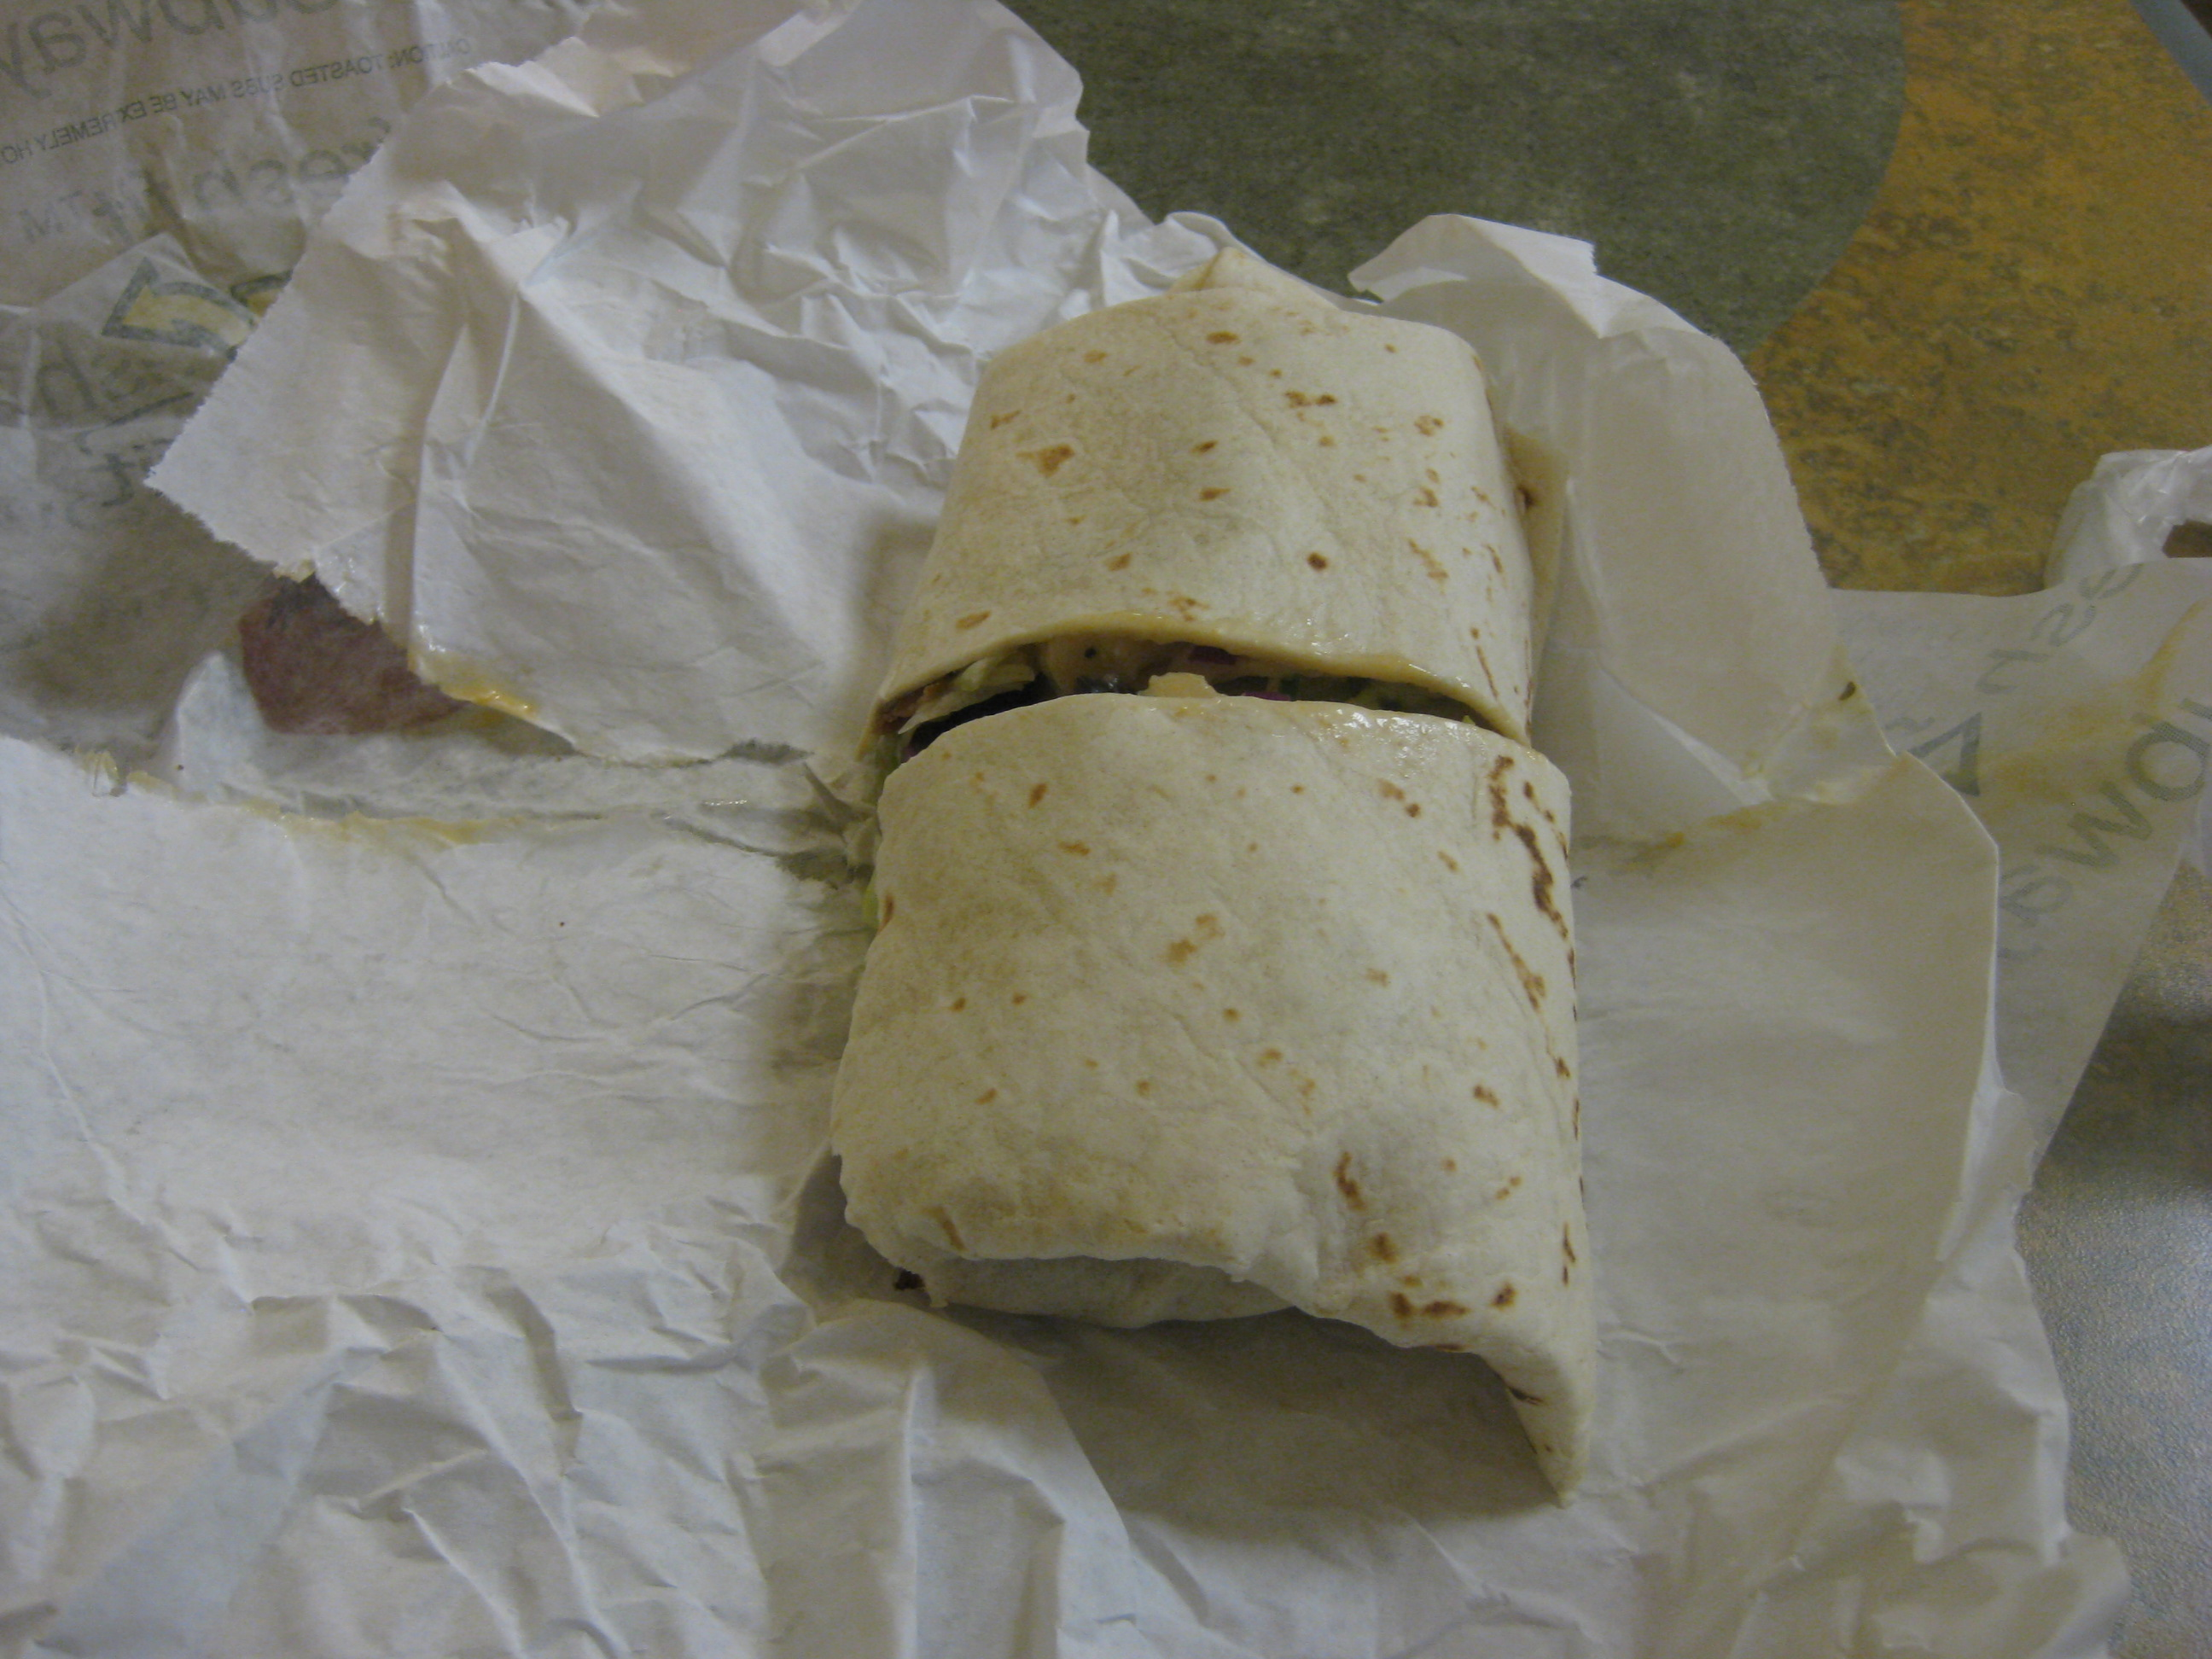burrito: (817, 212, 1662, 1505)
